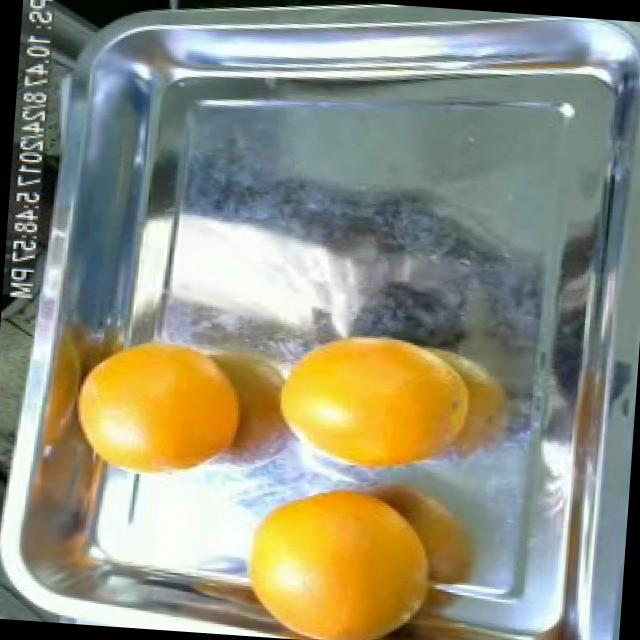Fruit: (48, 314, 267, 490), (512, 608, 595, 640)
